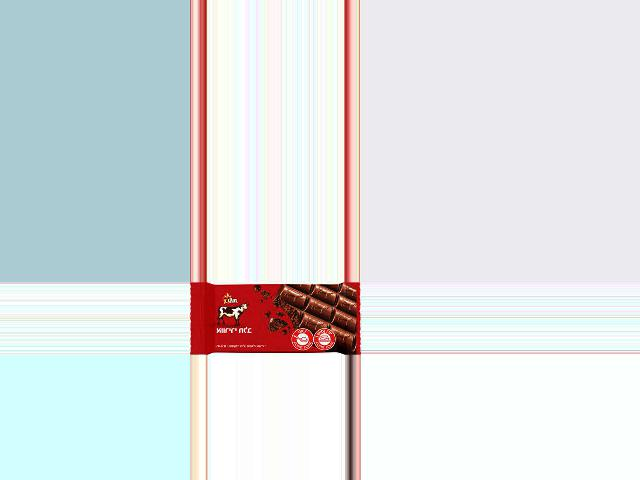chocolate: (189, 283, 358, 354)
